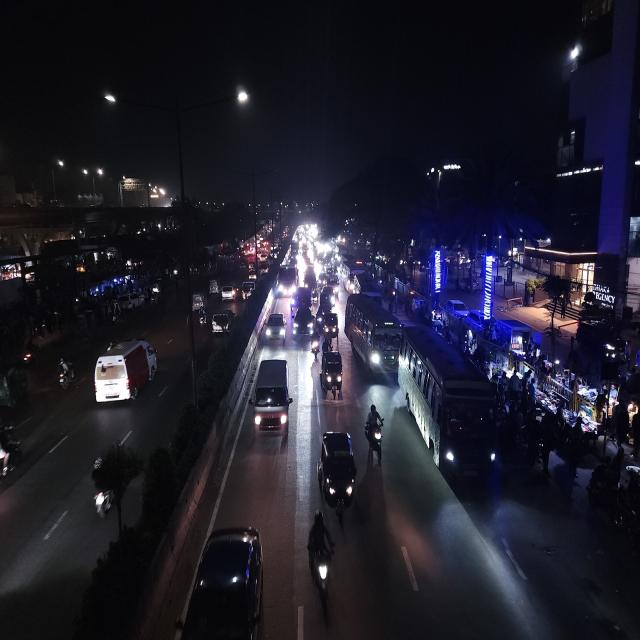bus: (396, 323, 499, 490), (345, 291, 400, 376), (343, 264, 356, 294)
car: (180, 521, 268, 640), (90, 332, 160, 413), (250, 352, 292, 441), (262, 310, 286, 347), (292, 302, 315, 340), (211, 308, 233, 338), (240, 278, 256, 304), (220, 284, 236, 303)
cng: (316, 426, 358, 521), (321, 344, 344, 401), (323, 309, 339, 340), (190, 289, 206, 312), (208, 276, 220, 295), (248, 261, 256, 275)
motorcycle: (306, 508, 336, 615), (87, 452, 117, 528), (364, 400, 386, 462), (54, 354, 76, 392), (311, 328, 321, 360), (198, 306, 208, 330)
truck: (278, 262, 298, 298)
